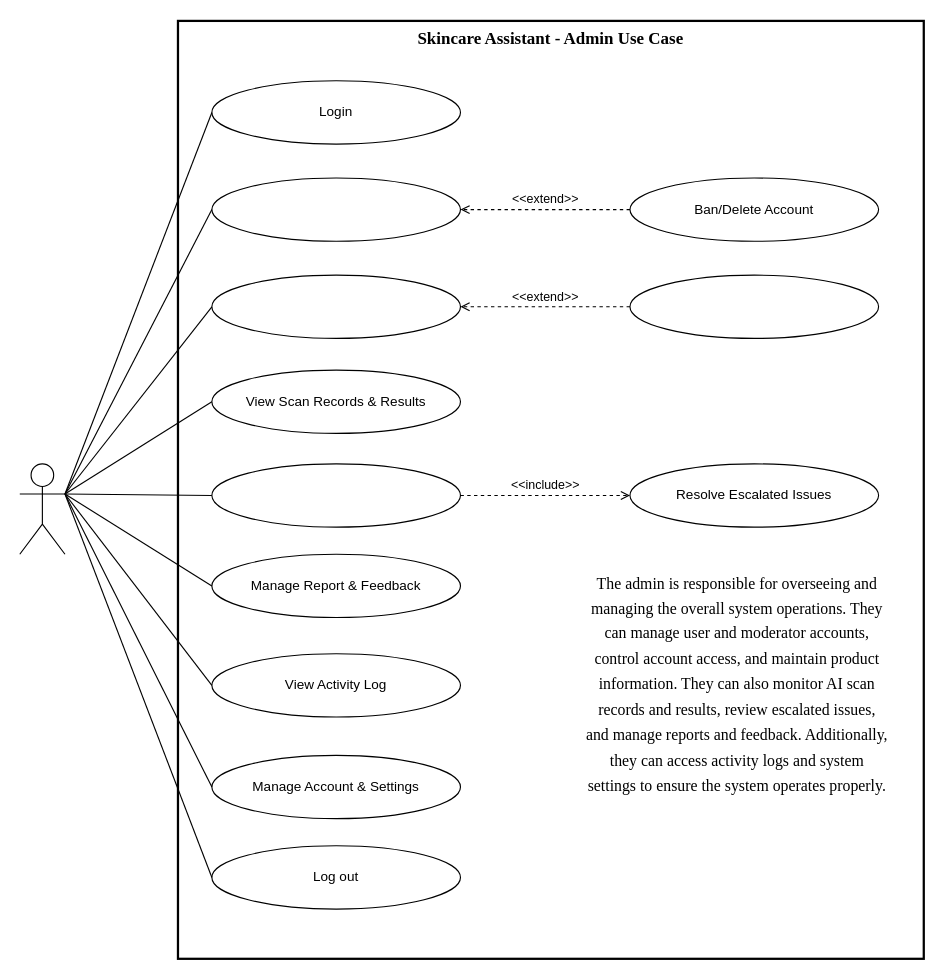
Some shapes in this 945 by 979 pixel diagram are drawn without their labels. The box of each missing label's shape, as (x1, y1, x2, y2) in pixels:
Add/Edit Products: (629, 274, 879, 338)
Admin: (19, 463, 65, 554)
Manage Products: (211, 274, 460, 338)
Manage Users & Moderators: (211, 177, 460, 241)
Review Escalated Issues: (211, 463, 460, 527)
